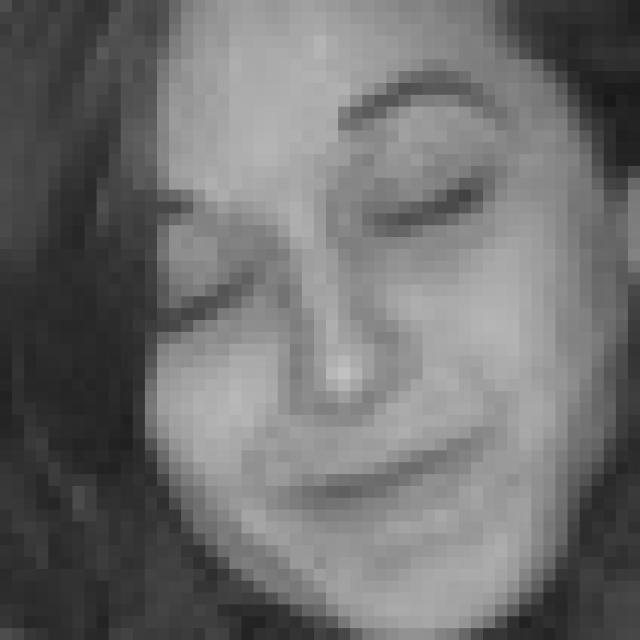real: (76, 0, 640, 634), (168, 170, 516, 302)
